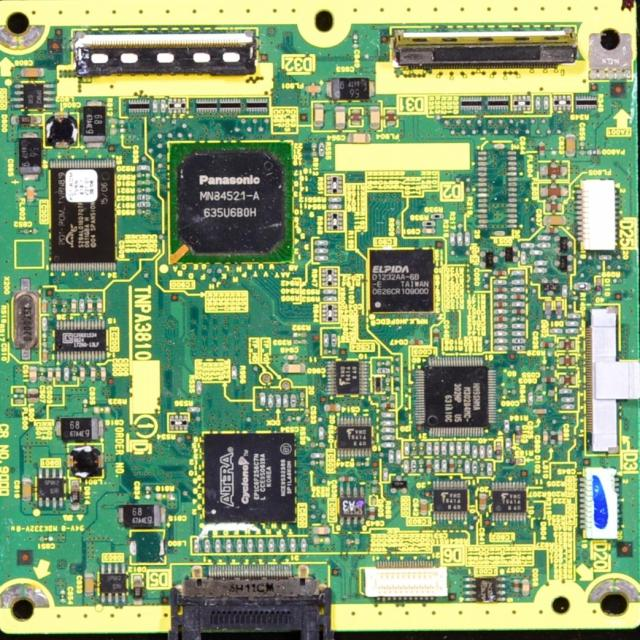Capacitor Jumper: (116, 504, 170, 529), (52, 418, 104, 439), (19, 130, 41, 176), (86, 97, 106, 145), (325, 79, 377, 97), (18, 65, 44, 80), (83, 573, 96, 600), (542, 215, 568, 228), (565, 132, 577, 160), (312, 102, 324, 128), (334, 105, 346, 131), (280, 363, 306, 375), (19, 478, 32, 502), (371, 105, 382, 130), (346, 133, 370, 143), (310, 527, 331, 537), (477, 492, 487, 510), (28, 366, 37, 384), (45, 366, 54, 384), (85, 299, 95, 314), (80, 398, 90, 413), (512, 578, 522, 593), (26, 185, 35, 201), (532, 407, 548, 416), (286, 415, 302, 424), (143, 484, 152, 500), (420, 499, 428, 516), (95, 299, 104, 314), (579, 139, 586, 158), (432, 328, 440, 344), (325, 403, 341, 411), (303, 409, 311, 425), (523, 579, 531, 595), (160, 97, 167, 115), (152, 97, 159, 114), (71, 299, 78, 316), (538, 341, 555, 348), (538, 142, 547, 155), (41, 298, 48, 314), (448, 458, 455, 474), (282, 354, 300, 360), (422, 228, 437, 235), (493, 269, 508, 276), (41, 332, 48, 347), (55, 367, 62, 382), (89, 368, 96, 383), (542, 432, 549, 447), (425, 459, 432, 474), (557, 429, 563, 446), (511, 293, 525, 300), (41, 348, 48, 362), (369, 507, 376, 521), (493, 301, 509, 307), (510, 308, 526, 314), (100, 365, 106, 381), (118, 119, 125, 132), (406, 339, 424, 344), (542, 377, 556, 383), (492, 316, 508, 321), (493, 288, 508, 293), (80, 367, 85, 382), (60, 589, 65, 604), (381, 404, 395, 409)
Connector: (388, 23, 580, 68), (75, 30, 258, 70), (590, 308, 638, 458), (361, 560, 448, 603), (578, 465, 626, 541), (580, 182, 622, 252)
IC: (169, 142, 293, 264), (200, 430, 298, 524), (48, 160, 118, 272), (412, 359, 498, 434), (370, 251, 436, 314), (52, 321, 104, 364), (336, 413, 371, 458), (326, 360, 367, 396), (491, 482, 528, 521), (433, 482, 469, 522), (36, 468, 65, 511), (335, 484, 364, 524), (462, 576, 506, 600)
Resistor Jumper: (13, 84, 56, 110), (109, 118, 118, 137), (438, 441, 449, 456), (93, 405, 111, 414), (156, 492, 173, 501), (322, 331, 330, 350), (312, 537, 333, 544), (573, 283, 591, 291), (77, 299, 86, 315), (463, 439, 472, 455), (325, 196, 342, 204), (493, 337, 510, 345), (267, 391, 275, 408), (259, 391, 266, 410), (318, 140, 326, 156), (540, 364, 556, 372), (314, 237, 328, 246), (520, 250, 528, 265), (511, 270, 526, 278), (503, 420, 511, 435), (376, 360, 393, 367), (543, 95, 550, 111), (463, 232, 471, 246), (313, 248, 329, 255), (561, 283, 569, 297), (60, 300, 68, 314), (330, 332, 338, 346), (38, 368, 46, 382), (526, 392, 534, 406), (290, 392, 297, 408), (433, 440, 440, 456), (424, 442, 432, 456), (310, 453, 326, 460), (478, 461, 486, 475), (535, 94, 542, 109), (136, 180, 151, 187), (326, 203, 341, 210), (537, 242, 552, 249), (533, 267, 548, 274), (567, 313, 582, 320), (293, 338, 308, 345), (560, 403, 575, 410), (381, 420, 396, 427), (457, 441, 464, 456), (471, 444, 478, 459), (388, 449, 395, 464), (433, 459, 440, 474), (464, 459, 471, 474), (402, 459, 409, 474), (409, 459, 416, 474), (62, 367, 70, 380), (134, 166, 151, 172), (299, 391, 305, 408), (472, 459, 478, 476), (310, 143, 317, 157), (449, 231, 456, 245), (536, 235, 550, 242), (530, 248, 544, 255), (294, 331, 308, 338), (196, 380, 203, 394), (560, 396, 574, 403), (448, 440, 455, 454), (441, 459, 448, 473), (486, 461, 493, 475), (420, 221, 436, 227), (458, 232, 464, 248), (493, 279, 509, 285), (51, 298, 57, 314), (232, 366, 238, 382), (418, 440, 424, 456), (431, 214, 444, 221), (486, 445, 493, 458), (136, 188, 151, 194), (323, 289, 338, 295), (322, 296, 337, 302), (492, 322, 507, 328), (511, 323, 526, 329), (511, 330, 526, 336), (492, 332, 507, 338), (376, 368, 391, 374), (275, 393, 281, 408), (187, 406, 202, 412), (136, 173, 150, 179), (532, 260, 546, 266), (493, 309, 507, 315), (384, 378, 390, 392), (558, 388, 572, 394), (382, 412, 396, 418), (506, 438, 512, 452), (381, 442, 395, 448), (411, 442, 418, 454), (312, 460, 326, 466), (418, 458, 424, 472), (372, 470, 378, 484), (565, 329, 581, 334), (492, 345, 508, 350), (72, 366, 77, 382), (381, 427, 397, 432), (520, 242, 533, 248), (512, 286, 525, 292), (512, 338, 525, 344), (565, 321, 580, 326), (42, 317, 47, 332), (284, 394, 289, 409), (138, 202, 150, 208), (550, 329, 562, 335), (403, 442, 409, 454), (382, 468, 388, 480), (315, 256, 329, 261), (509, 278, 523, 283), (494, 294, 508, 299), (396, 449, 401, 463), (511, 317, 527, 321), (380, 436, 396, 440), (480, 446, 485, 458), (137, 195, 151, 199), (512, 346, 526, 350), (458, 458, 462, 472), (511, 302, 524, 306)
Transistor: (101, 562, 127, 602), (498, 246, 521, 264), (555, 255, 575, 274), (540, 278, 559, 296), (479, 250, 496, 269), (553, 236, 572, 252)
